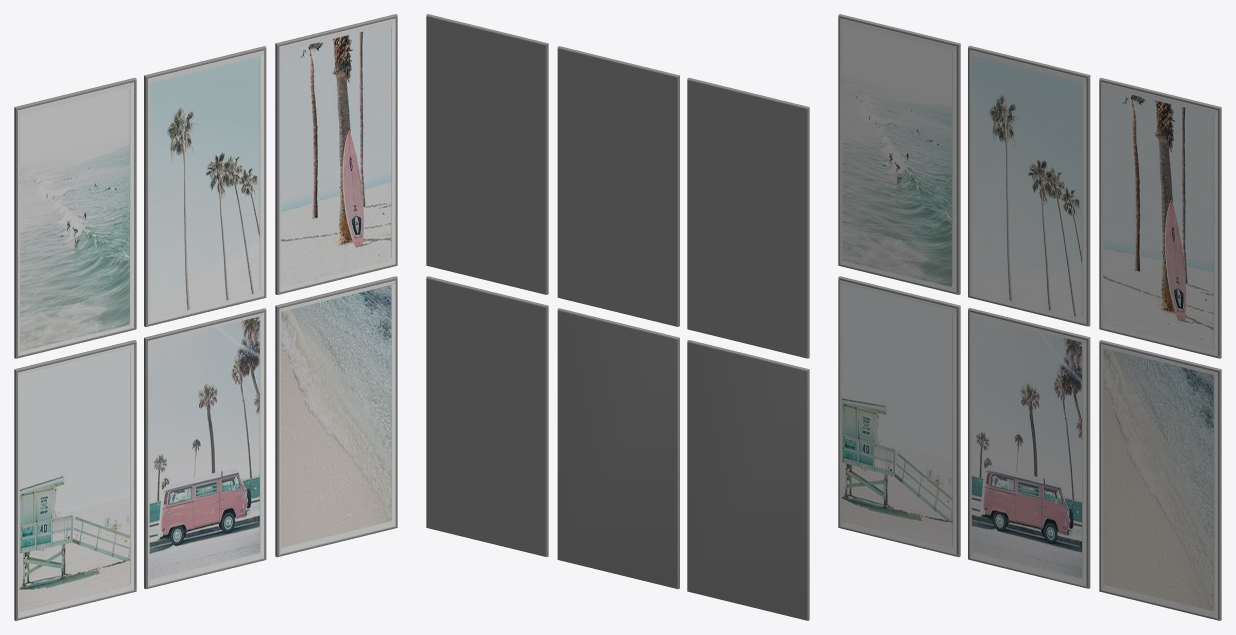
The model's file is Set of 9 pcs Square02.FBX.
3 renders of one model, left to right at view 1: azimuth 30°, elevation 25°; view 2: azimuth 150°, elevation 25°; view 3: azimuth 330°, elevation 25°, orthographic.
Parts seen in each view (by area): view 1: Box005; view 2: Box005; view 3: Box005.
Boxes of the visible parts, x1=… form: Box005: x1=14, y1=14, x2=397, y2=620; Box005: x1=426, y1=14, x2=809, y2=620; Box005: x1=838, y1=14, x2=1221, y2=620.
Bounding box in the file's own units: 663 × 850 × 6.54.
2 materials, 1 textured.
